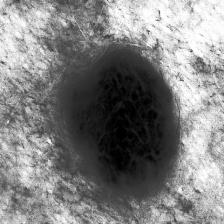Benign Marking or Mole: (65, 51, 176, 188)
